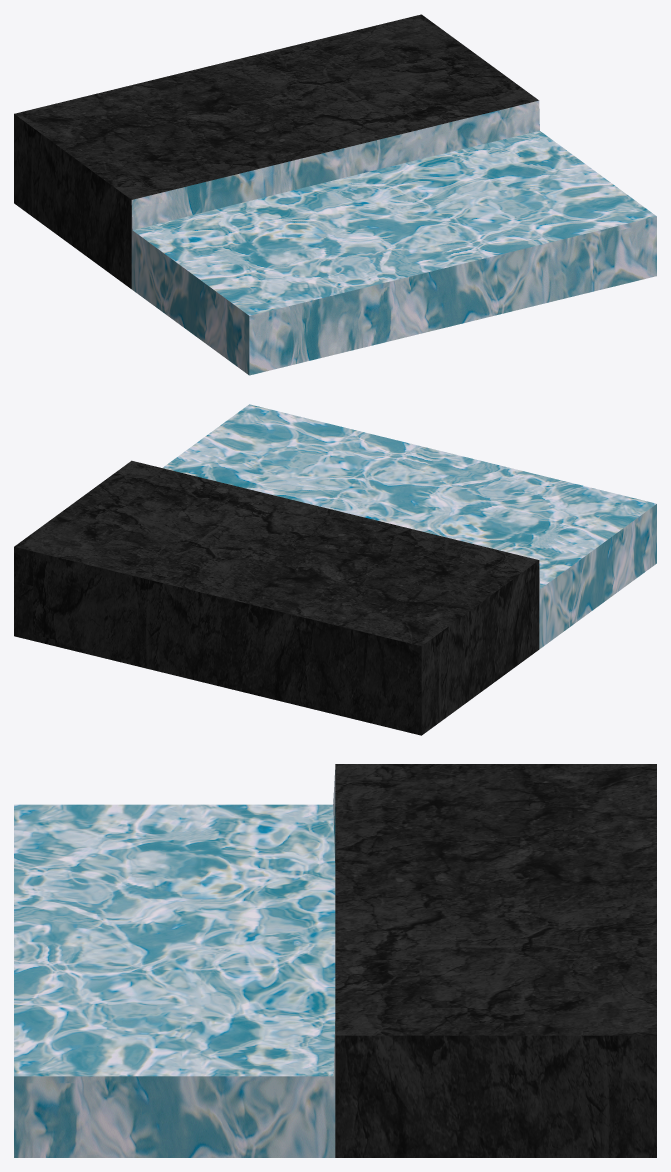
Rendered from AllyPath42.fbx.
3 views of the same model, one above another, from view 1: azimuth 30°, elevation 25°; view 2: azimuth 150°, elevation 25°; view 3: azimuth 270°, elevation 25° (orthographic). The views are drawn at different scales.
Parts seen in each view (by area): view 1: AllyPath42; view 2: AllyPath42; view 3: AllyPath42.
Boxes of the visible parts, box(x1,y1,x2,y2) form: AllyPath42: box(14, 14, 656, 375); AllyPath42: box(14, 404, 656, 735); AllyPath42: box(14, 764, 656, 1157).
Size of the model in its own units: 100 by 20.97 by 100.
2 materials, 2 textured.
